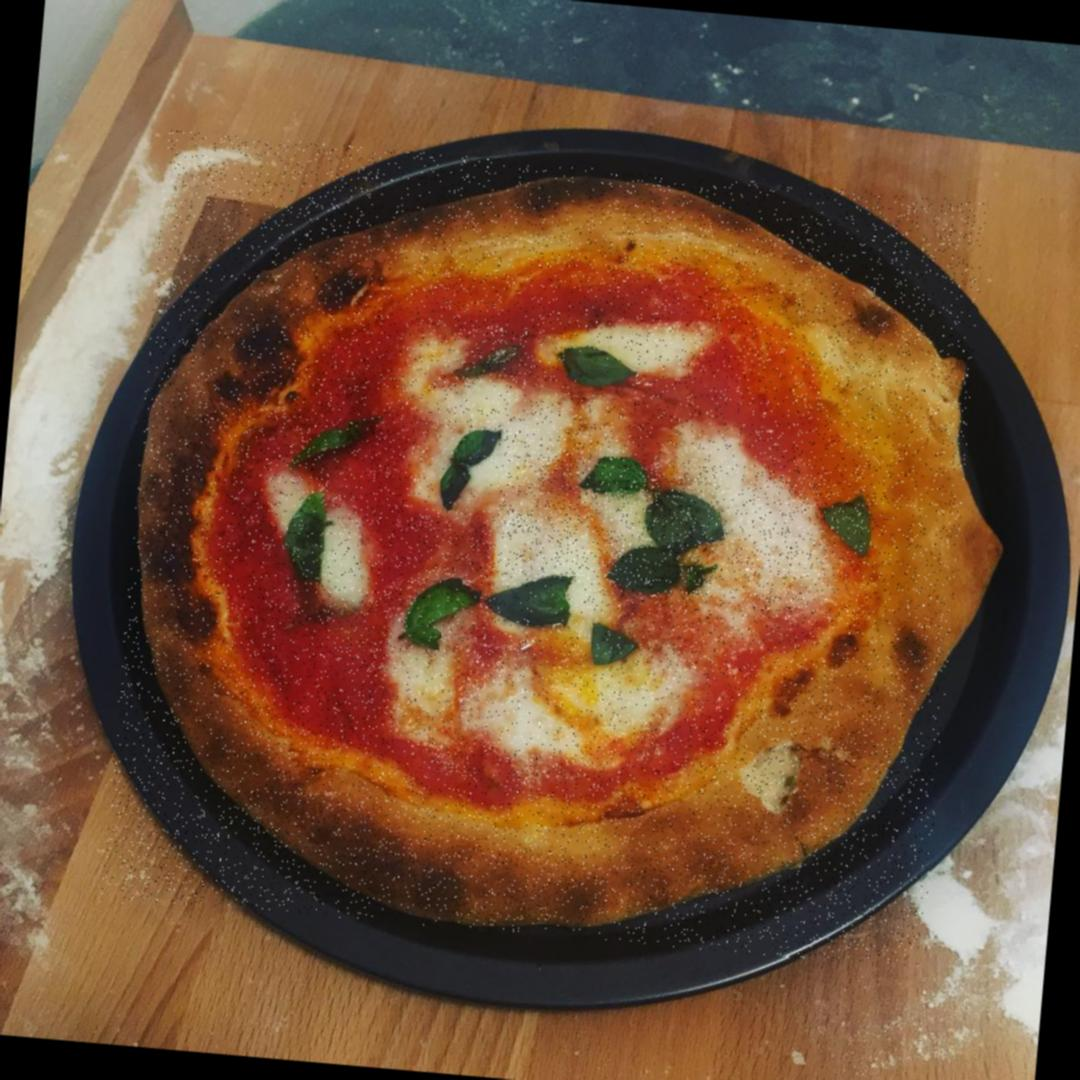Basil: (584, 454, 724, 606), (404, 572, 580, 645), (290, 412, 382, 486), (423, 427, 501, 513), (283, 489, 336, 603), (562, 340, 637, 399), (450, 332, 524, 390), (824, 492, 881, 565), (588, 614, 634, 678)
Cheese: (395, 652, 642, 760), (731, 470, 834, 624), (494, 432, 594, 578)
Pizza: (101, 131, 988, 970)
